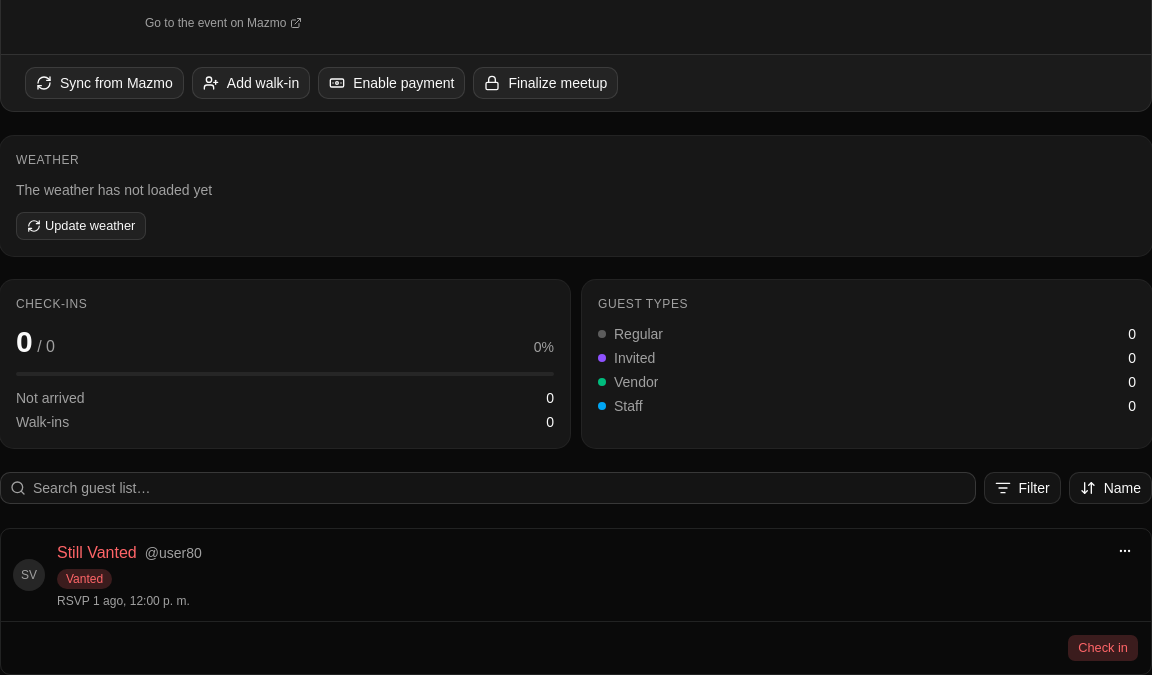
Test case: MeetupDetailPage profile sheet vant fallback › shows the row's vant while the org's vanted list is still loading
The image size is (1152, 675).
(page scrolled)
What coordinates should you click on to do the following:
click the button "Still Vanted"
I would click on:
 (97, 552)
Its box is [57,540,137,564].
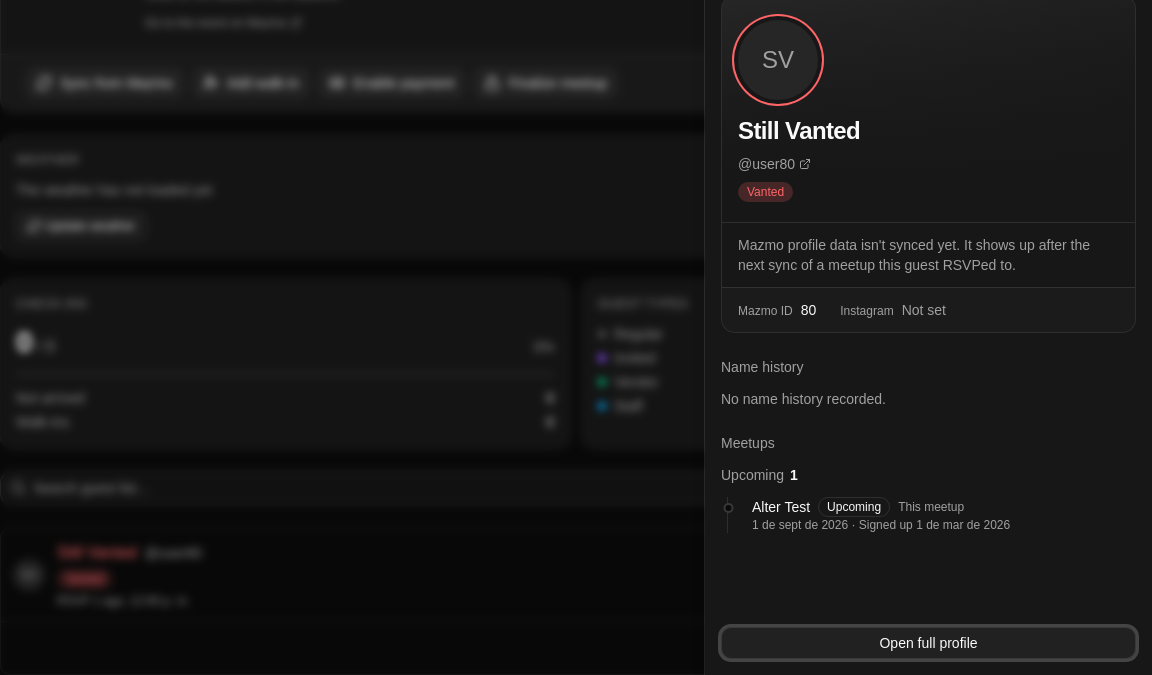
Expected: the heading "Still Vanted" is shown, [738,116,860,146]
Expected: the icon "Vanted" is shown, [738,182,793,202]
